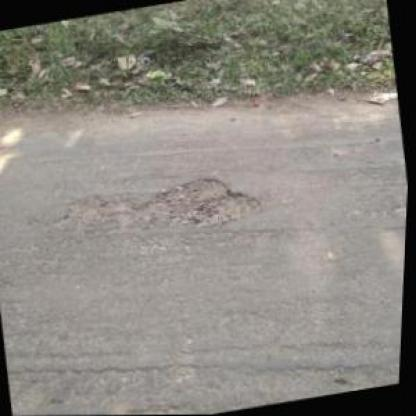pothole: (57, 162, 273, 250)
